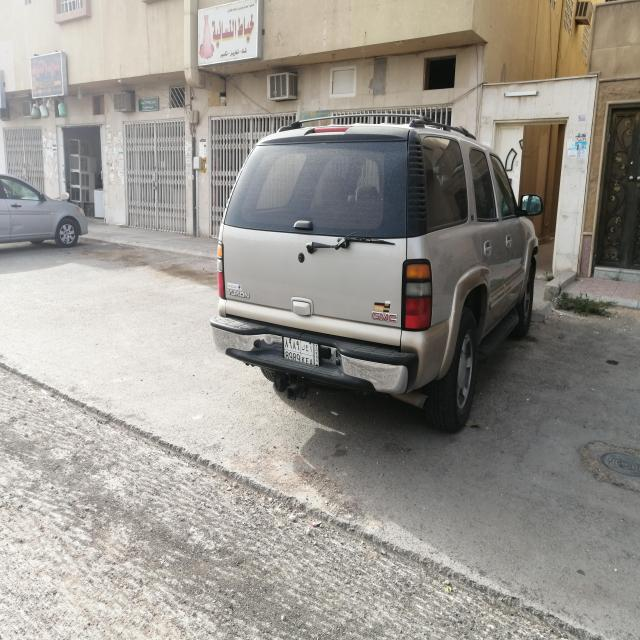license_plate: (280, 334, 320, 370)
